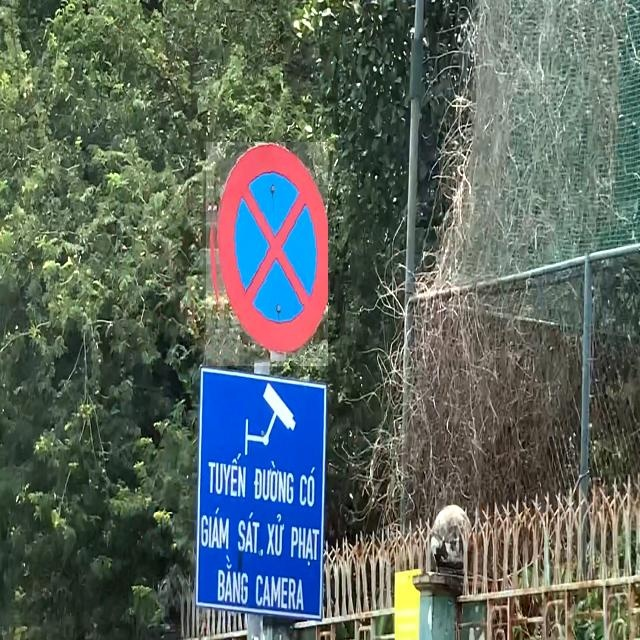bien_chi_dan: (206, 142, 328, 366)
